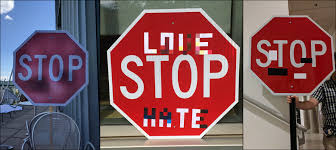stop sign: (106, 8, 237, 138), (250, 16, 336, 96), (12, 30, 90, 107)
